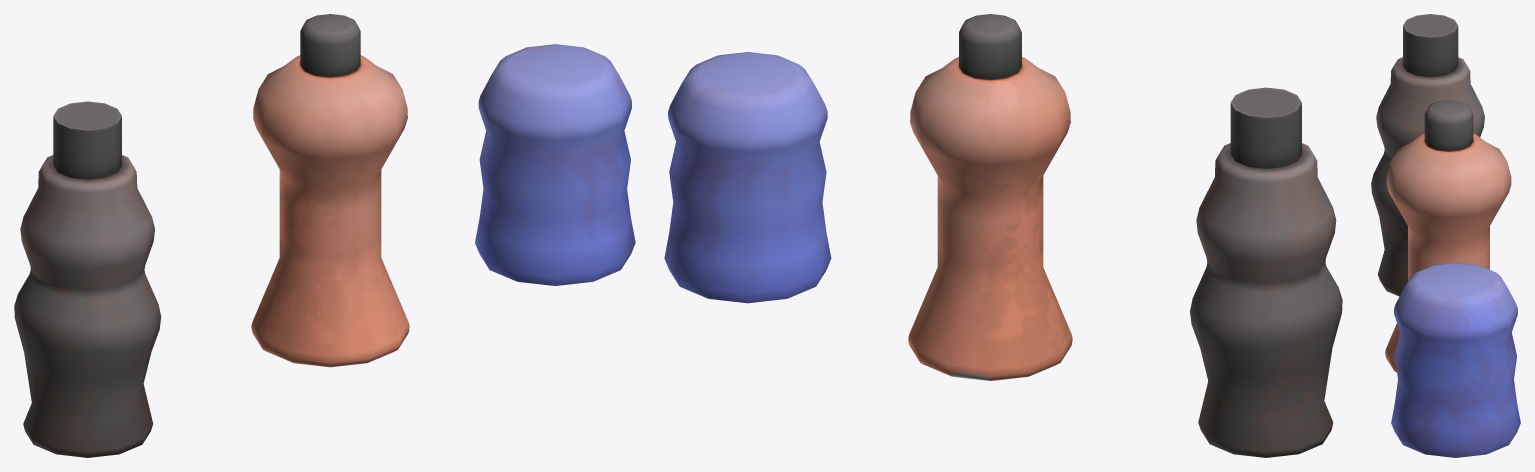
The model's file is Bathroom_Şişeler.fbx.
The picture shows the model from 3 angles, left to right: view 1: azimuth 30°, elevation 25°; view 2: azimuth 150°, elevation 25°; view 3: azimuth 270°, elevation 25°; orthographic projection. The views are drawn at different scales.
Visible parts, largest first — view 1: Cylinder.003, Cylinder, Cylinder.019; view 2: Cylinder.003, Cylinder, Cylinder.019; view 3: Cylinder.019, Cylinder.003, Cylinder.
Part boxes in pixels (<box>): Cylinder.003: <box>251,14,409,367</box>; Cylinder: <box>14,101,161,457</box>; Cylinder.019: <box>475,44,635,285</box>; Cylinder.003: <box>908,14,1072,380</box>; Cylinder: <box>1190,87,1342,457</box>; Cylinder.019: <box>664,52,831,303</box>; Cylinder.019: <box>1391,262,1520,457</box>; Cylinder.003: <box>1385,100,1511,372</box>; Cylinder: <box>1371,14,1484,296</box>.
Size of the model in its own units: 56.47 by 29.85 by 14.72.
Materials: 1 (1 with a texture image).
